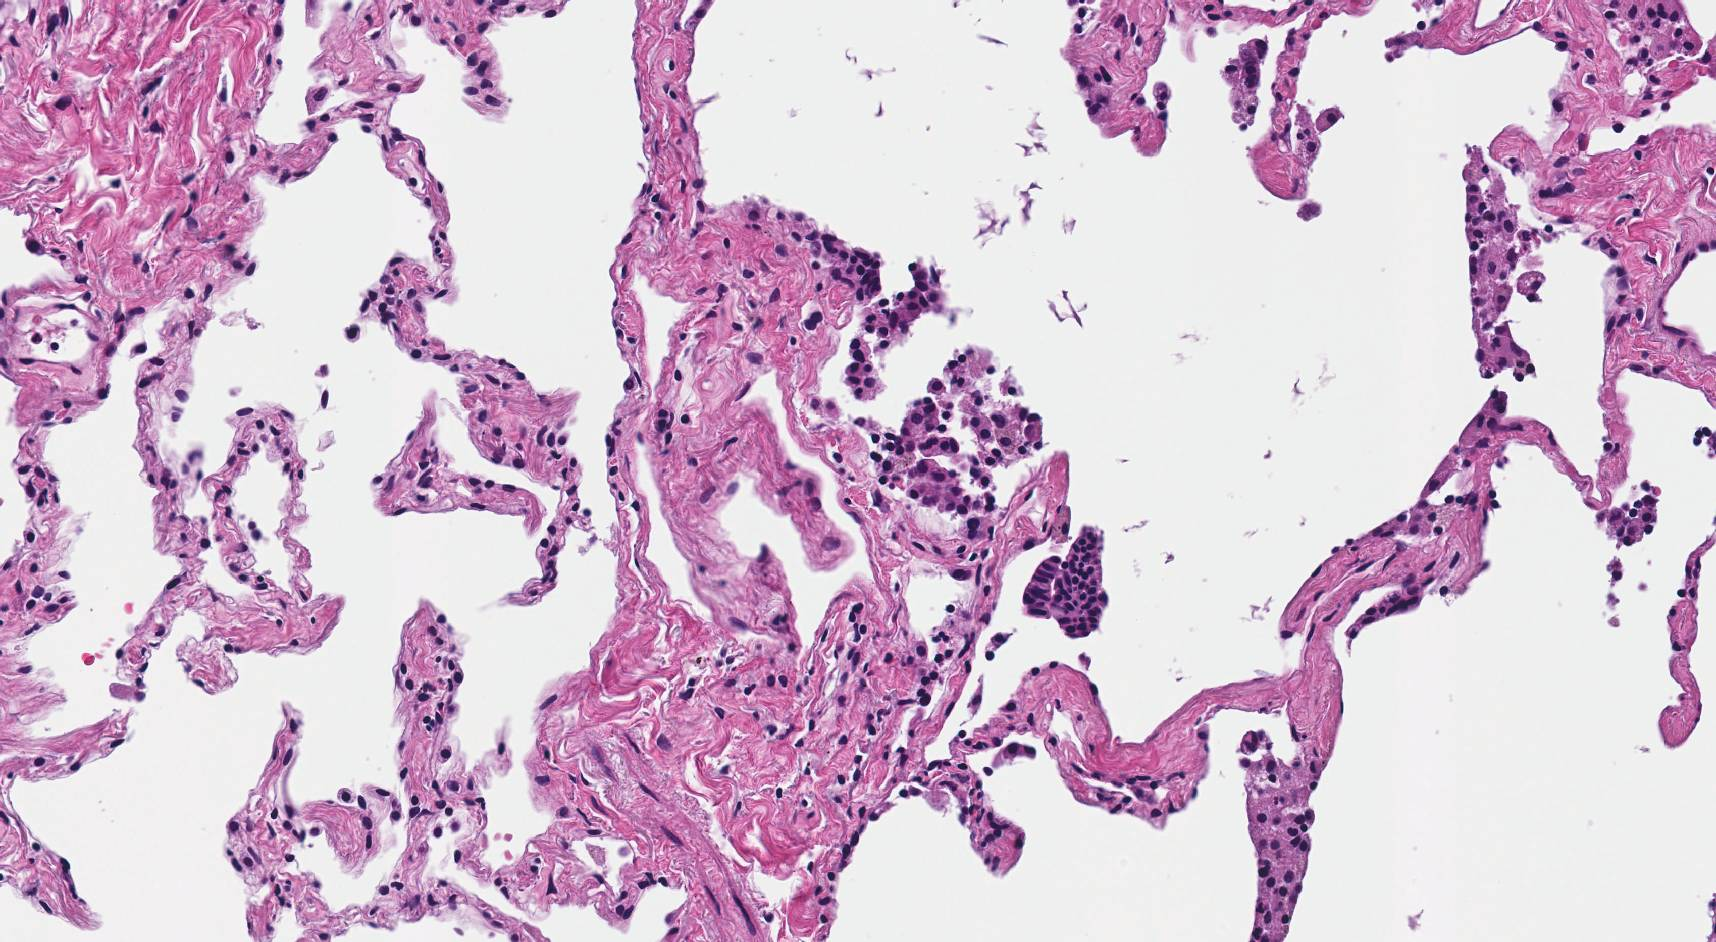stas: (1022, 524, 1112, 641)
